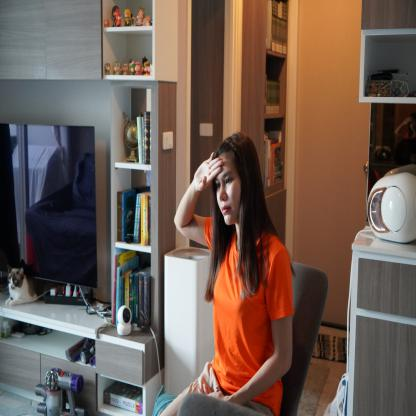Sick: (183, 147, 226, 198)
